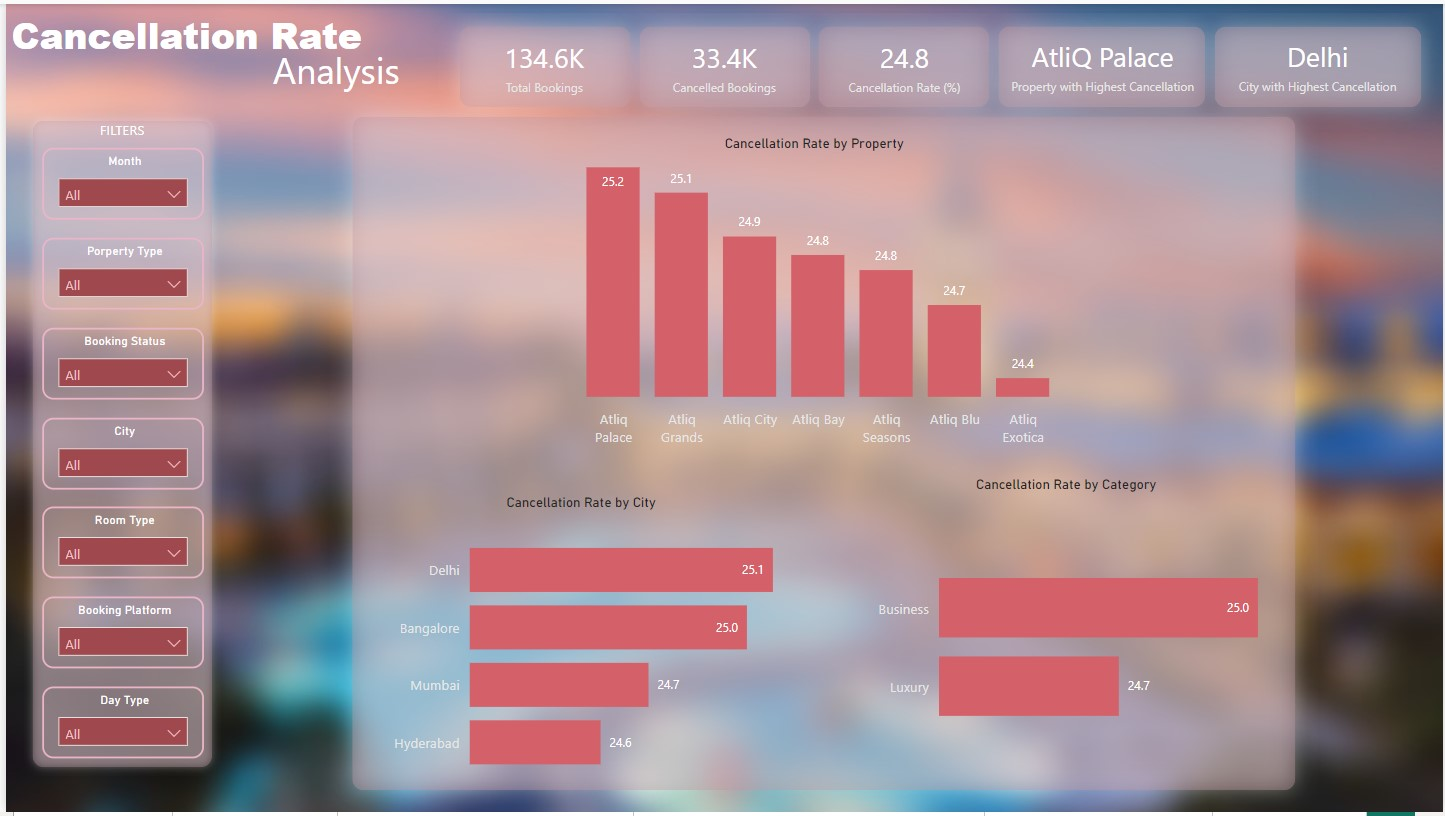

This screenshot's page, from the dashboard's own definition file:
{"tool":"powerbi","page":{"name":"Cancellation Rate Analysis","canvas":[1280,720],"ordinal":4},"visuals":[{"type":"shape","title":"Filters","box":[1056,0,224,112],"z":0},{"type":"shape","title":"Filters","box":[864,0,224,112],"z":1000},{"type":"shape","title":"Filters","box":[544,0,192,112],"z":2000},{"type":"shape","title":"Filters","box":[384,0,192,112],"z":3000},{"type":"shape","title":"Filters","box":[704,0,192,112],"z":4000},{"type":"shape","title":"Filters","box":[288,80,880,640],"z":5000},{"type":"shape","title":"Filters","box":[16,96,176,592],"z":6000},{"type":"columnChart","title":"Cancellation Rate by Property","fields":{"Category":["agg_book.property_name"],"Y":["agg_book.Cancellation Rate"]},"box":[480,112,480,288],"z":12000},{"type":"barChart","title":"Cancellation Rate by City","fields":{"Category":["agg_book.city"],"Y":["agg_book.Cancellation Rate"]},"box":[336,432,352,272],"z":13000},{"type":"slicer","title":"City","fields":{"Values":["agg_book.city"]},"box":[32,368,144,64],"z":14000},{"type":"slicer","title":"Porperty Type","fields":{"Values":["agg_book.property_name"]},"box":[32,208,144,64],"z":15000},{"type":"slicer","title":"Booking Platform","fields":{"Values":["bookings.booking_platform"]},"box":[32,528,144,64],"z":16000},{"type":"slicer","title":"Month","fields":{"Values":["agg_book.Month"]},"box":[32,128,144,64],"z":17000},{"type":"slicer","title":"Day Type","fields":{"Values":["agg_book.day_type"]},"box":[32,608,144,64],"z":18000},{"type":"slicer","title":"Booking Status","fields":{"Values":["bookings.booking_status"]},"box":[32,288,144,64],"z":19000},{"type":"slicer","title":"Room Type","fields":{"Values":["agg_book.room_id_class"]},"box":[32,448,144,64],"z":20000},{"type":"barChart","title":"Cancellation Rate by Category","fields":{"Category":["agg_book.category"],"Y":["agg_book.Cancellation Rate"]},"box":[768,416,352,288],"z":22000},{"type":"textbox","box":[880,16,192,80],"z":25000},{"type":"card","fields":{"Values":["agg_book.Cancellation Rate"]},"box":[720,16,160,80],"z":26000},{"type":"card","fields":{"Values":["bookings.Total Cancelled Bookings"]},"box":[560,16,160,80],"z":27000},{"type":"card","fields":{"Values":["bookings.Total Bookings"]},"box":[400,16,160,80],"z":28000},{"type":"textbox","box":[1072,16,192,80],"z":29000},{"type":"textbox","box":[0,0,400,112],"z":30000},{"type":"textbox","box":[224,32,160,64],"z":31000}]}

Visuals, with their boxes in screenshot pixels (x1, y1, x2, y2), scaled from the page's 1280x720 canvas onto the 1445x816 screenshot:
"Filters" shape: left=1192, top=0, right=1444, bottom=127
"Filters" shape: left=975, top=0, right=1228, bottom=127
"Filters" shape: left=614, top=0, right=831, bottom=127
"Filters" shape: left=434, top=0, right=650, bottom=127
"Filters" shape: left=795, top=0, right=1012, bottom=127
"Filters" shape: left=325, top=91, right=1319, bottom=815
"Filters" shape: left=18, top=109, right=217, bottom=780
"Cancellation Rate by Property" columnChart: left=542, top=127, right=1084, bottom=453
"Cancellation Rate by City" barChart: left=379, top=490, right=777, bottom=798
"City" slicer: left=36, top=417, right=199, bottom=490
"Porperty Type" slicer: left=36, top=236, right=199, bottom=308
"Booking Platform" slicer: left=36, top=598, right=199, bottom=671
"Month" slicer: left=36, top=145, right=199, bottom=218
"Day Type" slicer: left=36, top=689, right=199, bottom=762
"Booking Status" slicer: left=36, top=326, right=199, bottom=399
"Room Type" slicer: left=36, top=508, right=199, bottom=580
"Cancellation Rate by Category" barChart: left=867, top=471, right=1264, bottom=798
textbox: left=993, top=18, right=1210, bottom=109
card - agg_book.Cancellation Rate: left=813, top=18, right=993, bottom=109
card - bookings.Total Cancelled Bookings: left=632, top=18, right=813, bottom=109
card - bookings.Total Bookings: left=452, top=18, right=632, bottom=109
textbox: left=1210, top=18, right=1427, bottom=109
textbox: left=0, top=0, right=452, bottom=127
textbox: left=253, top=36, right=434, bottom=109
